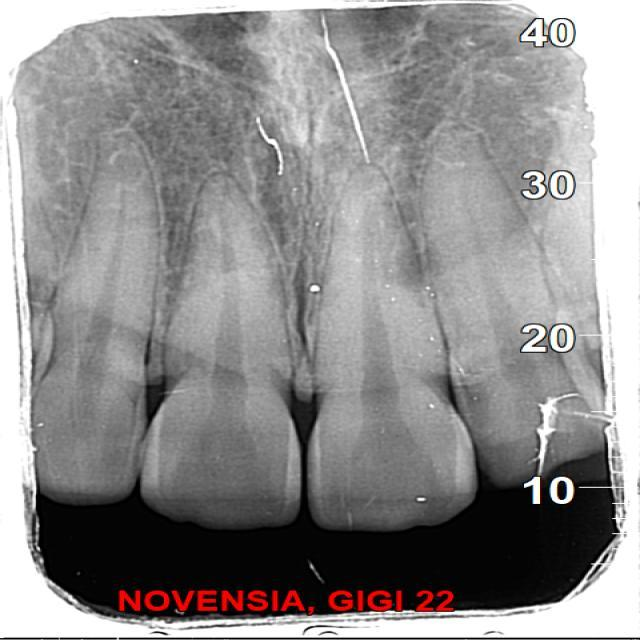individual-tooth-8tto: (297, 168, 490, 534), (146, 172, 296, 529), (28, 120, 159, 503)
